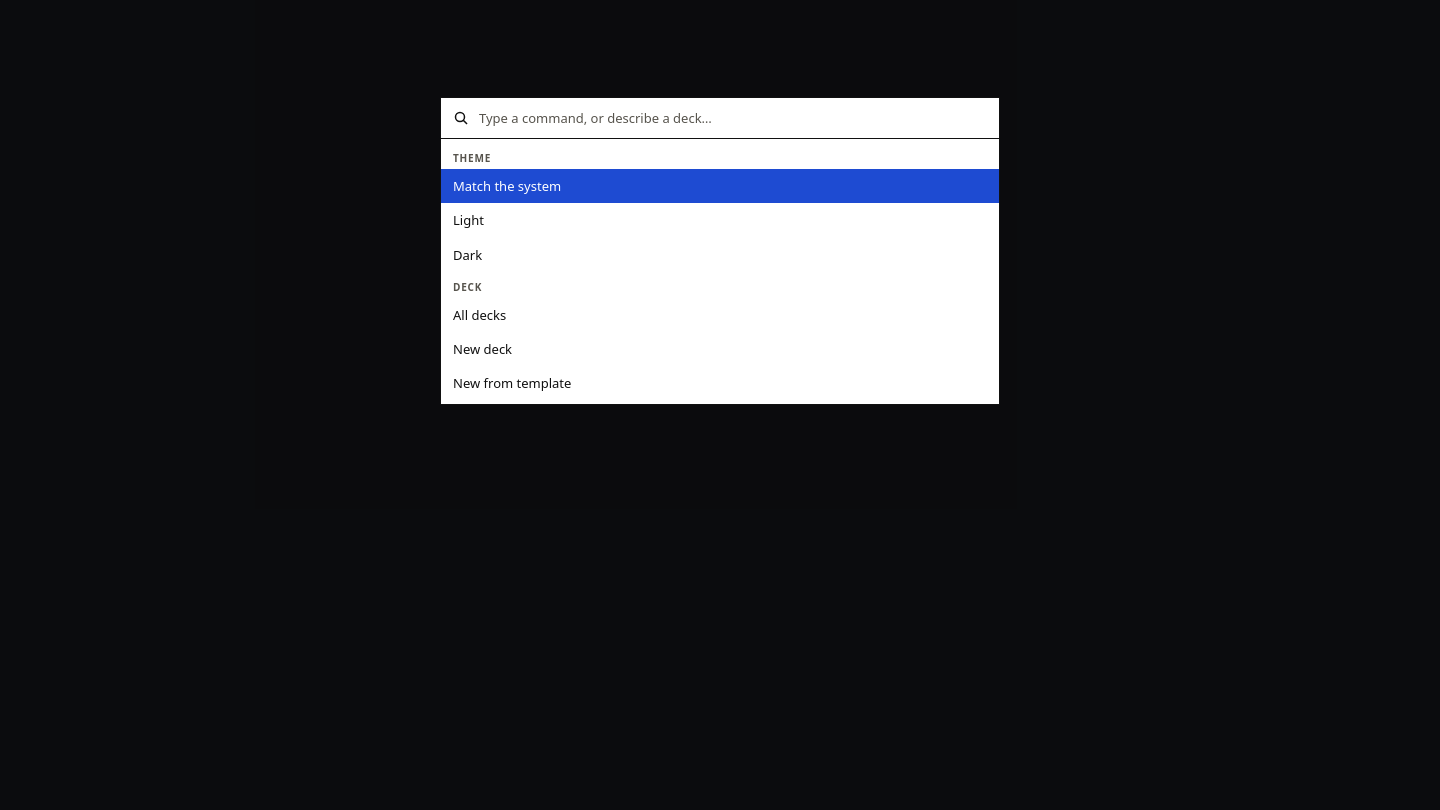
it: the palette on the home › turns words typed into a deck to describe, not a question for the assistant
Type "a pitch for a bakery" into the dropdown with test id "command-palette-input" at {"x": 732, "y": 118}, box [477,98,987,138]
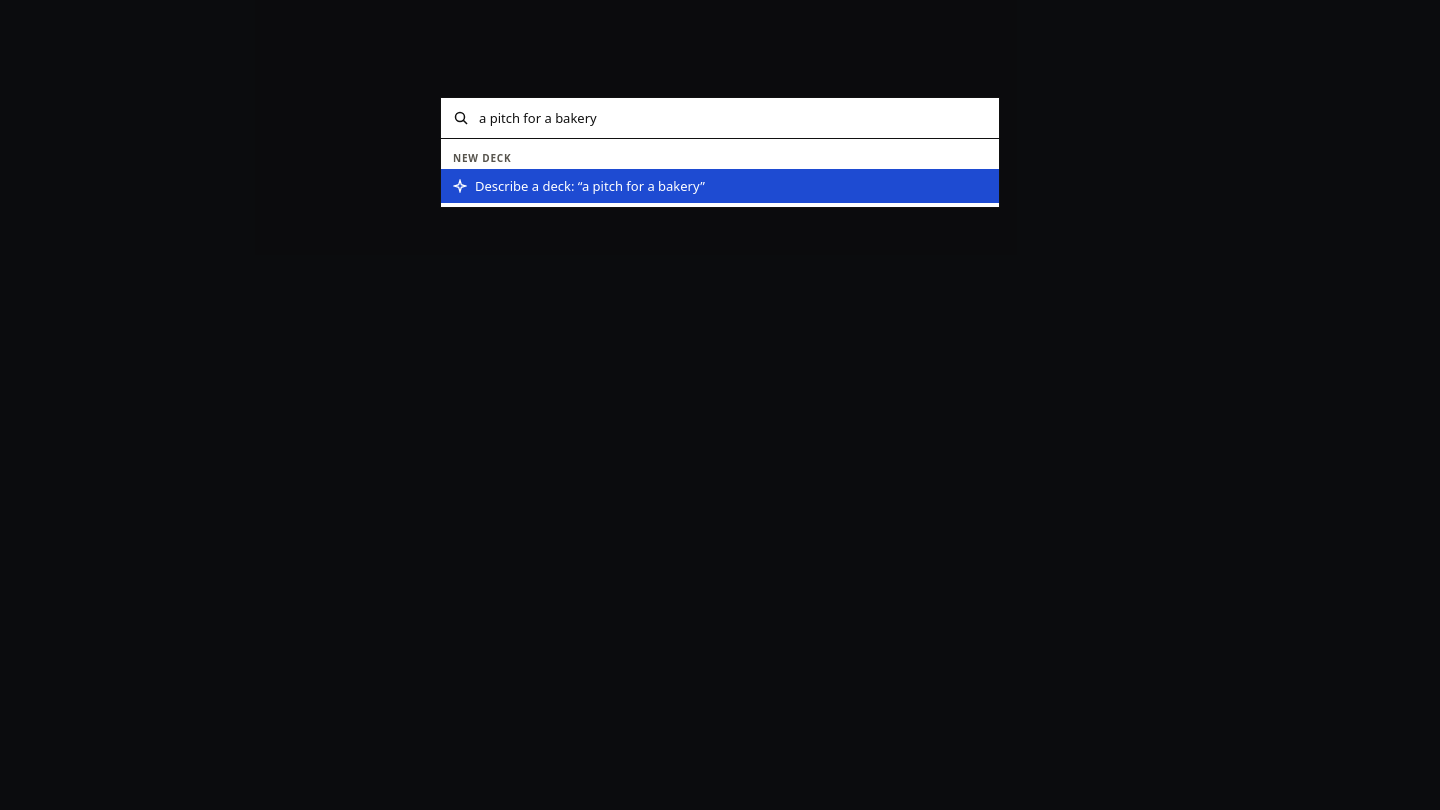
expect the option with test id "command-ask" reads "Describe a deck: a pitch for a bakery": met, box [441,169,999,203]
